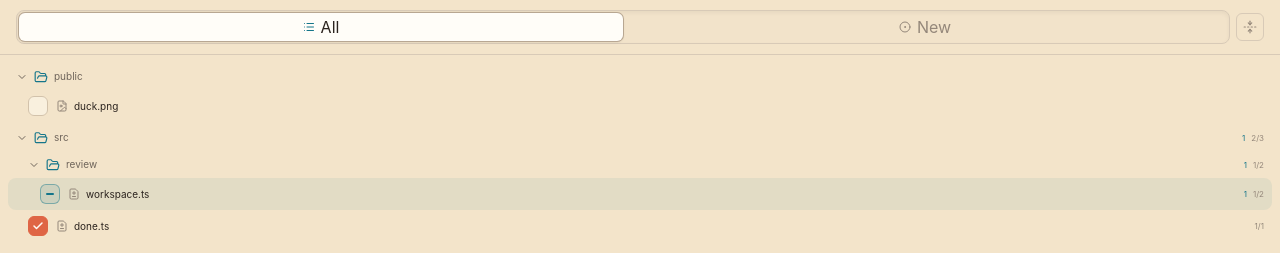
ReviewFilesPanel › filters the tree from a single All / New row
Expected: the text "done.ts" is shown, [74,220,109,232]
Step 1. Click the button "New" → (925, 27), box [623,13,1227,41]
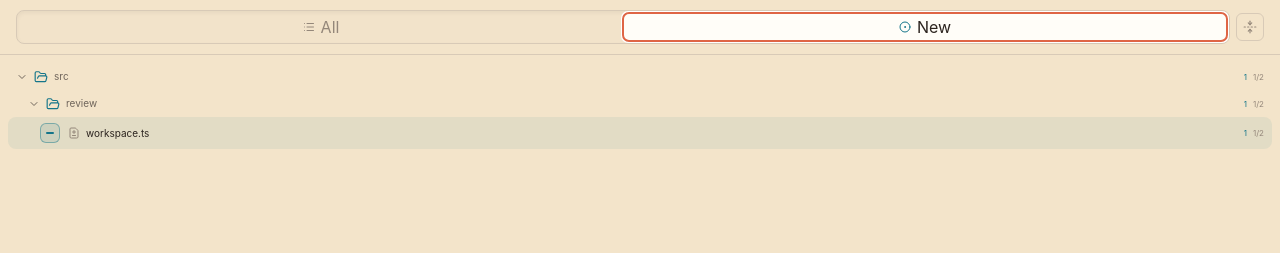
Expected: the text "workspace.ts" is shown, [86,126,149,138]
Expected: the button "done.ts" is gone
